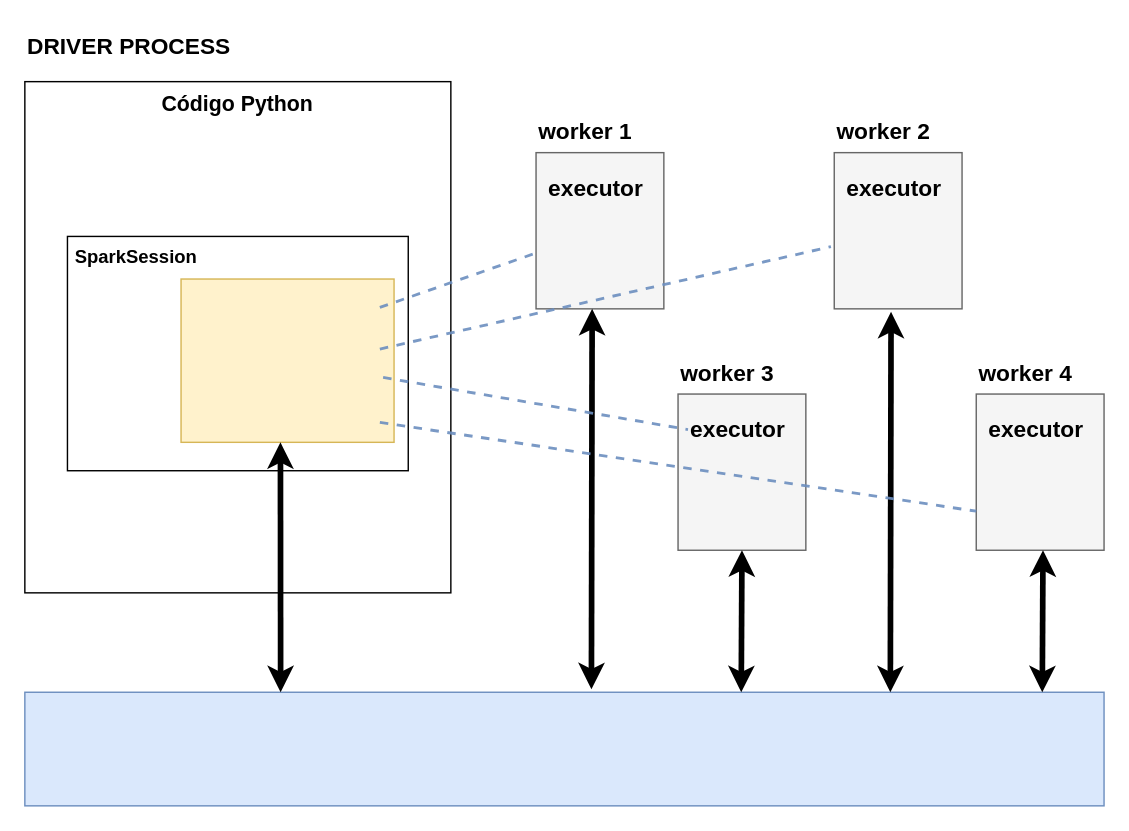
The diagram is 1129 pixels wide and 831 high, and some of its shapes have lost their labels. The shapes that lost their labels are listed below. From the top down, each one's centre as x and y in pixels, then its label:
At (x=287, y=360): "SparkContext".
At (x=563, y=748): "Cluster Resource Manager (Master)".
